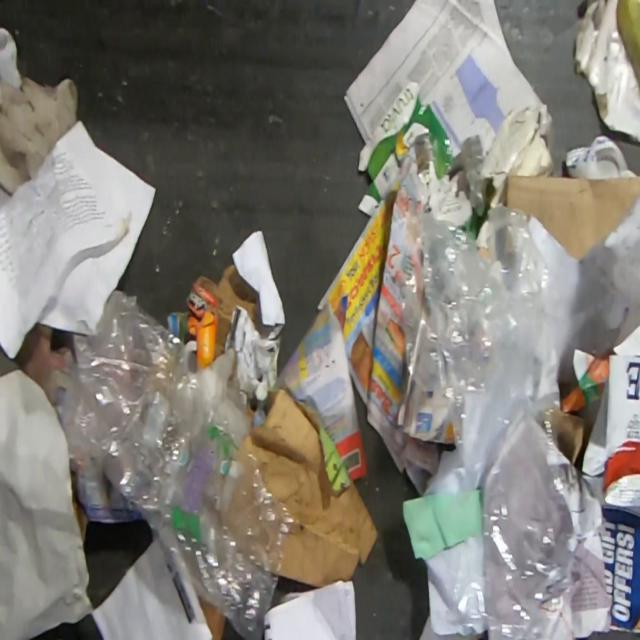cardboard: (251, 389, 382, 590), (356, 80, 462, 218), (499, 172, 640, 265), (574, 0, 640, 149), (196, 262, 272, 358), (553, 410, 585, 465)
soft_plastic: (398, 205, 606, 640), (61, 286, 296, 640), (599, 320, 640, 636)
